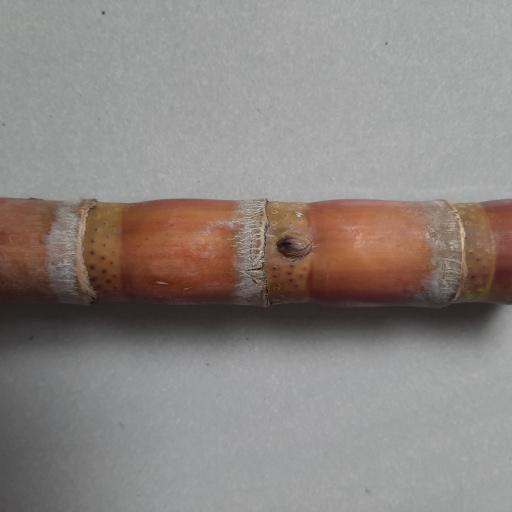Bud: (275, 234, 311, 255)
